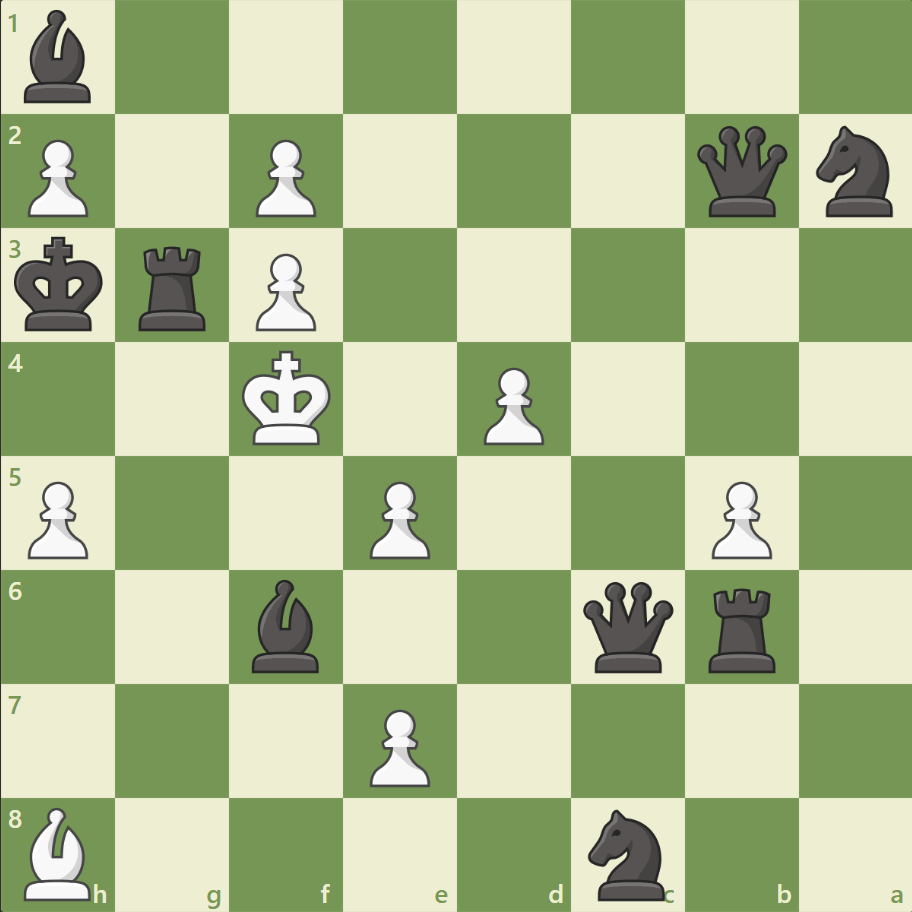B: (17, 801, 101, 904)
K: (238, 344, 338, 452)
P: (701, 473, 776, 564), (20, 473, 95, 564), (474, 359, 549, 450), (247, 246, 322, 337), (247, 132, 322, 223), (20, 132, 95, 223), (361, 700, 435, 791), (361, 473, 435, 564)
b: (17, 6, 101, 109), (244, 574, 328, 676)
k: (11, 231, 111, 339)
n: (579, 802, 676, 904), (806, 121, 903, 223)
q: (578, 576, 677, 676), (691, 122, 790, 222)
r: (700, 579, 783, 676), (133, 239, 215, 336)
